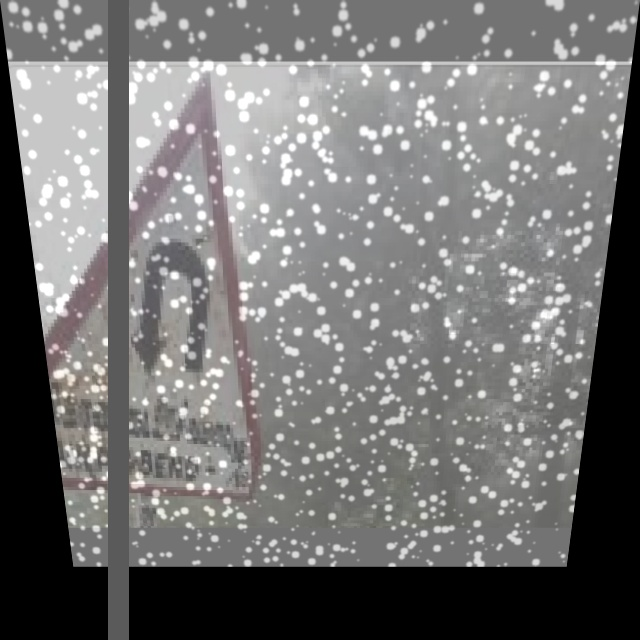Left_Hair_Pin_Bend: (98, 206, 231, 380)
